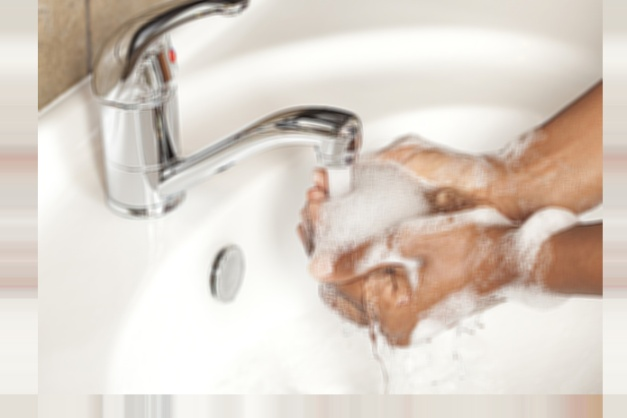washing hand: (147, 0, 556, 377)
